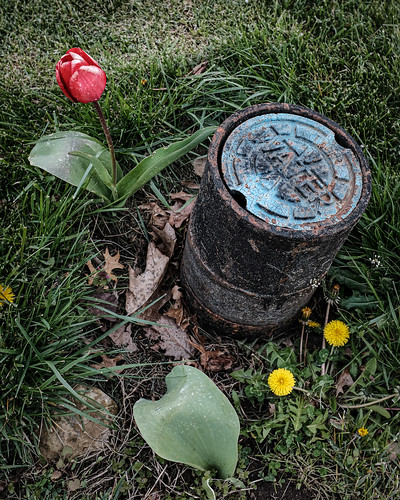flowers: (28, 38, 186, 248)
vegetation: (1, 1, 397, 495)
